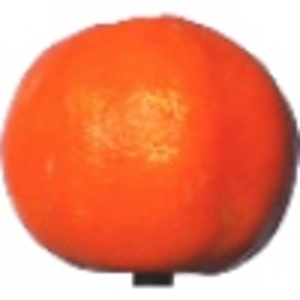tangerina: (1, 12, 300, 287)
